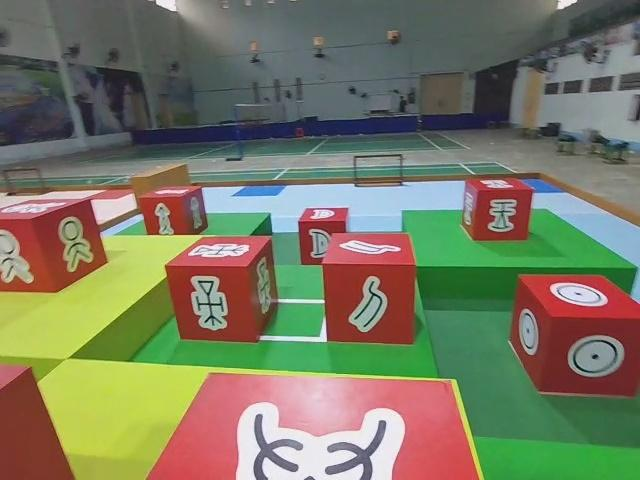R2 Real: (139, 364, 484, 480), (509, 267, 640, 408), (163, 235, 281, 346), (321, 227, 420, 344), (0, 194, 110, 295), (460, 179, 532, 245), (140, 186, 209, 239), (298, 205, 351, 269)
